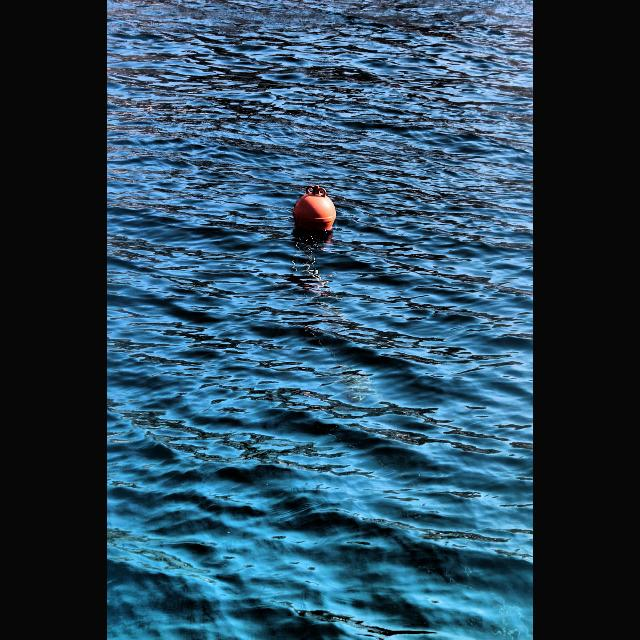buoy: (288, 182, 340, 234)
